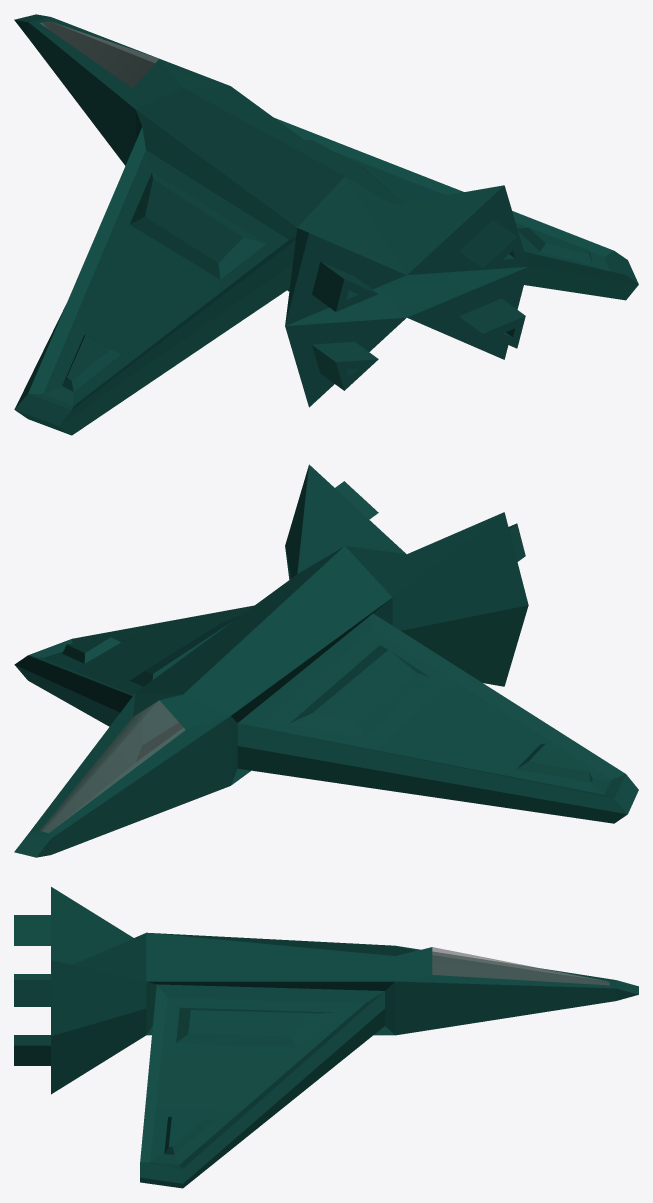
File: ship.FBX
3 views of the same model, one above another, from view 1: azimuth 30°, elevation 25°; view 2: azimuth 150°, elevation 25°; view 3: azimuth 270°, elevation 25° (orthographic). The views are drawn at different scales.
Parts seen in each view (by area): view 1: Box001; view 2: Box001; view 3: Box001.
Part boxes in pixels (x1,y1,x2,y2): Box001: (14, 14, 638, 435); Box001: (14, 464, 638, 857); Box001: (14, 887, 638, 1188).
Size of the model in its own units: 113 by 130 by 35.54.
